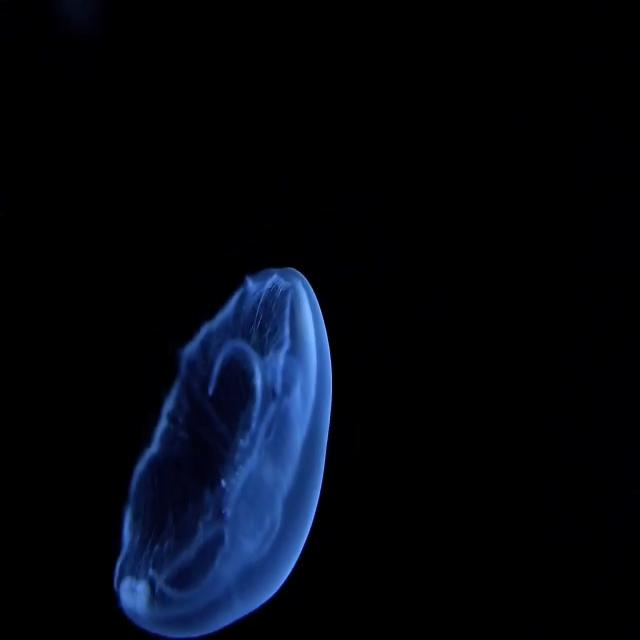Moon-jellyfish: (112, 268, 334, 639)
